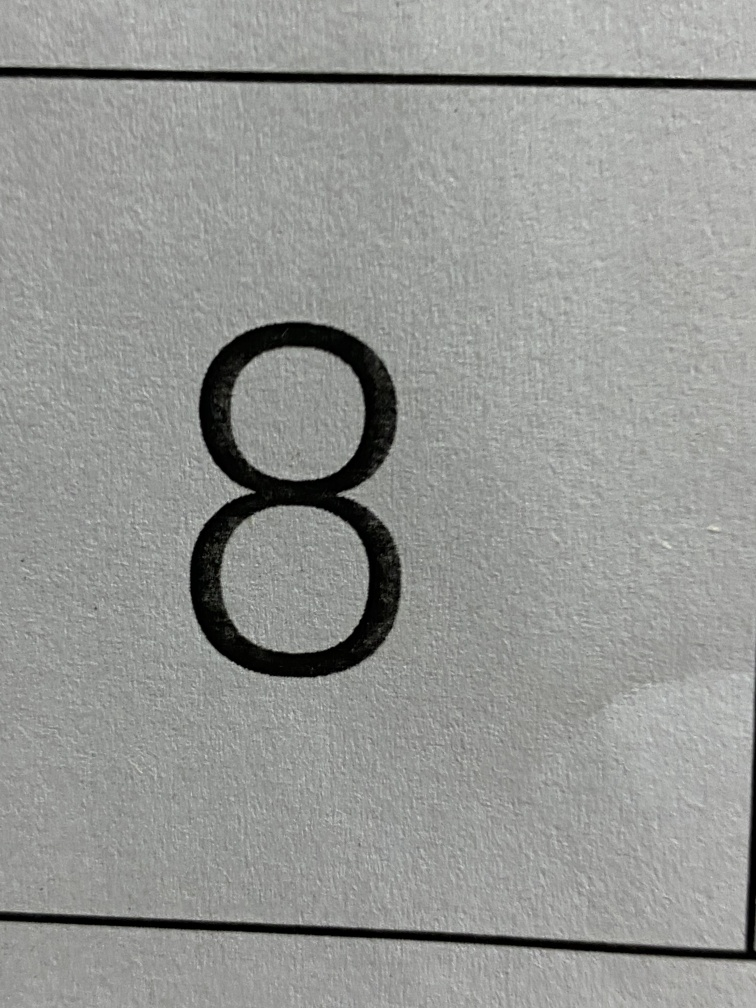eight: (115, 285, 470, 731)
